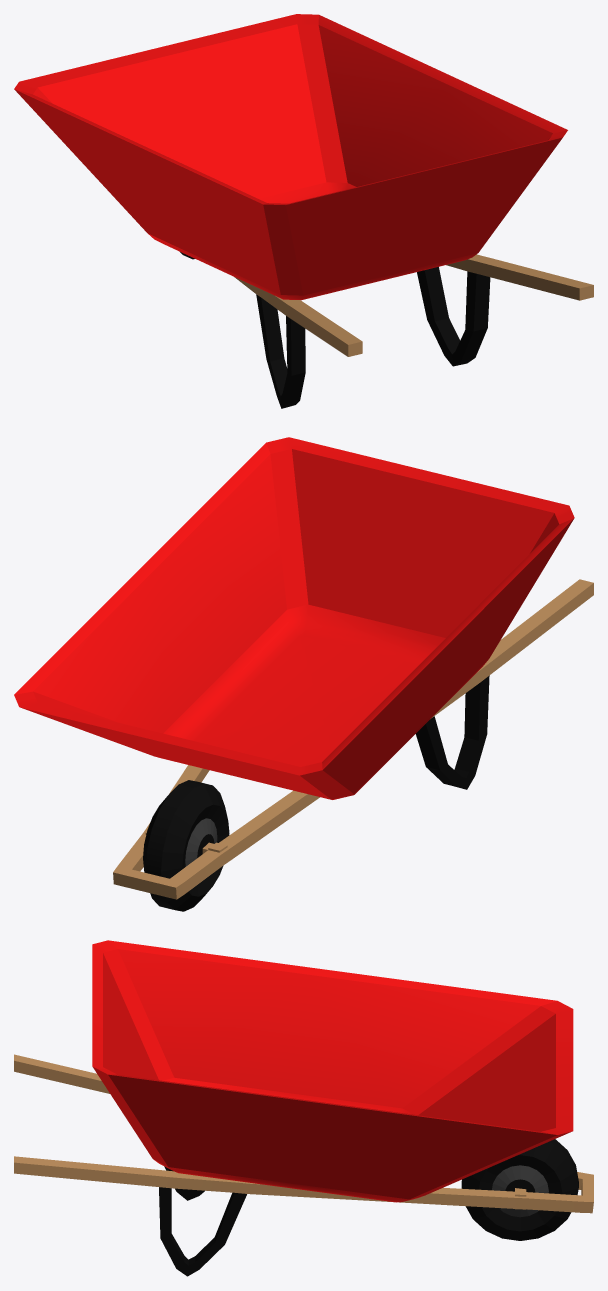
Rendered from Wheelbarrow_v2.FBX.
The picture shows the model from 3 angles, top to bottom: view 1: azimuth 30°, elevation 25°; view 2: azimuth 150°, elevation 25°; view 3: azimuth 270°, elevation 25°; orthographic projection. The views are drawn at different scales.
Visible parts, largest first — view 1: Wheel001; view 2: Wheel001; view 3: Wheel001.
Part boxes in pixels (bbox=[...]): Wheel001: bbox=[14, 14, 593, 408]; Wheel001: bbox=[14, 437, 593, 911]; Wheel001: bbox=[14, 940, 593, 1276].
Bounding box in the file's own units: 25.59 × 20.53 × 46.7.
